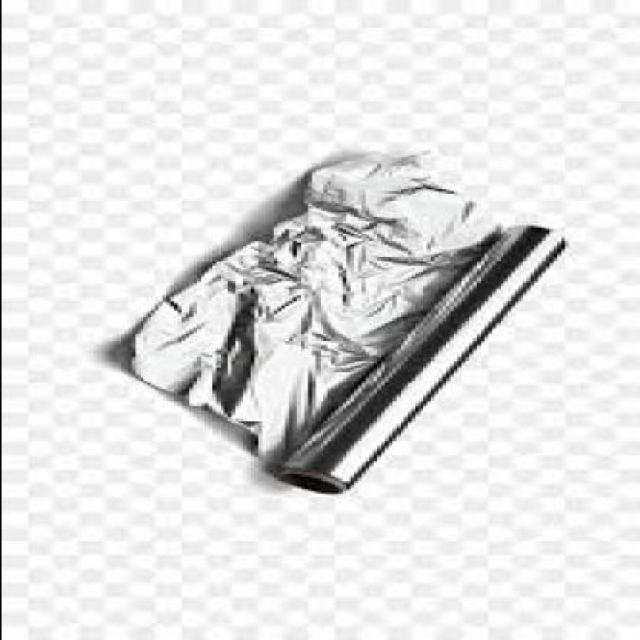METAL: (127, 151, 576, 495)
